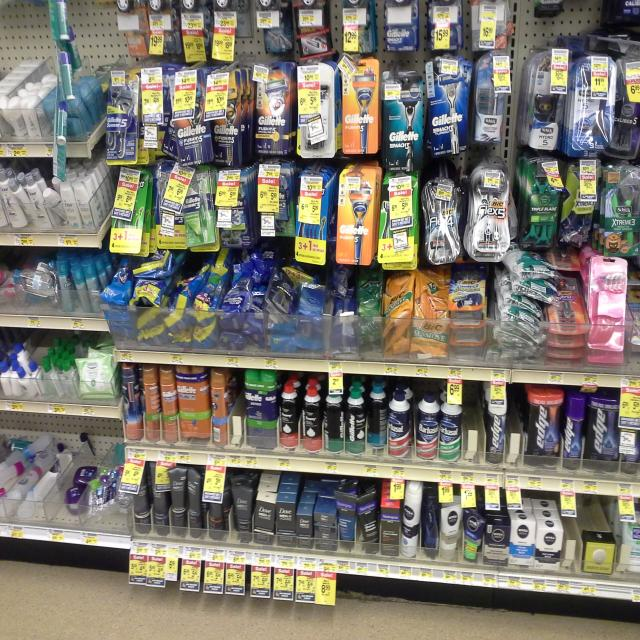empty: (456, 376, 492, 469), (504, 384, 534, 466)
